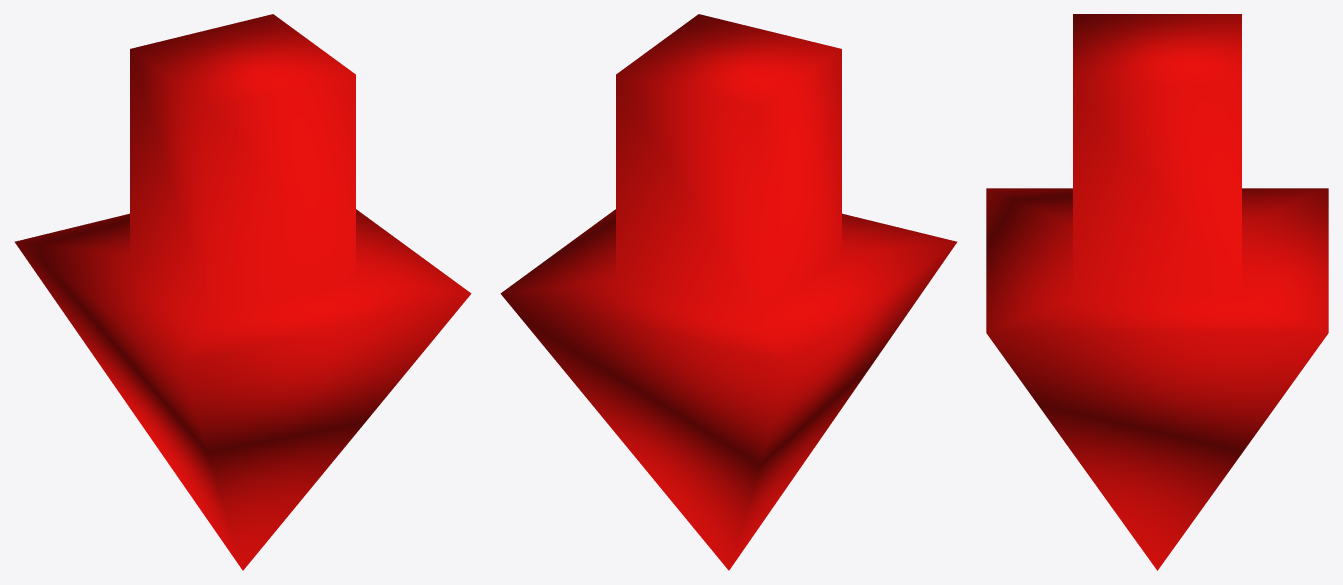
Rendered from marker.dae.
3 renders of one model, left to right at view 1: azimuth 30°, elevation 25°; view 2: azimuth 150°, elevation 25°; view 3: azimuth 270°, elevation 25°, orthographic. The views are drawn at different scales.
Parts seen in each view (by area): view 1: Cube; view 2: Cube; view 3: Cube.
Part boxes in pixels (x1,y1,x2,y2): Cube: (14, 14, 471, 570); Cube: (500, 14, 957, 570); Cube: (986, 14, 1328, 570).
Bounding box in the file's own units: 2 × 2 × 3.36.
